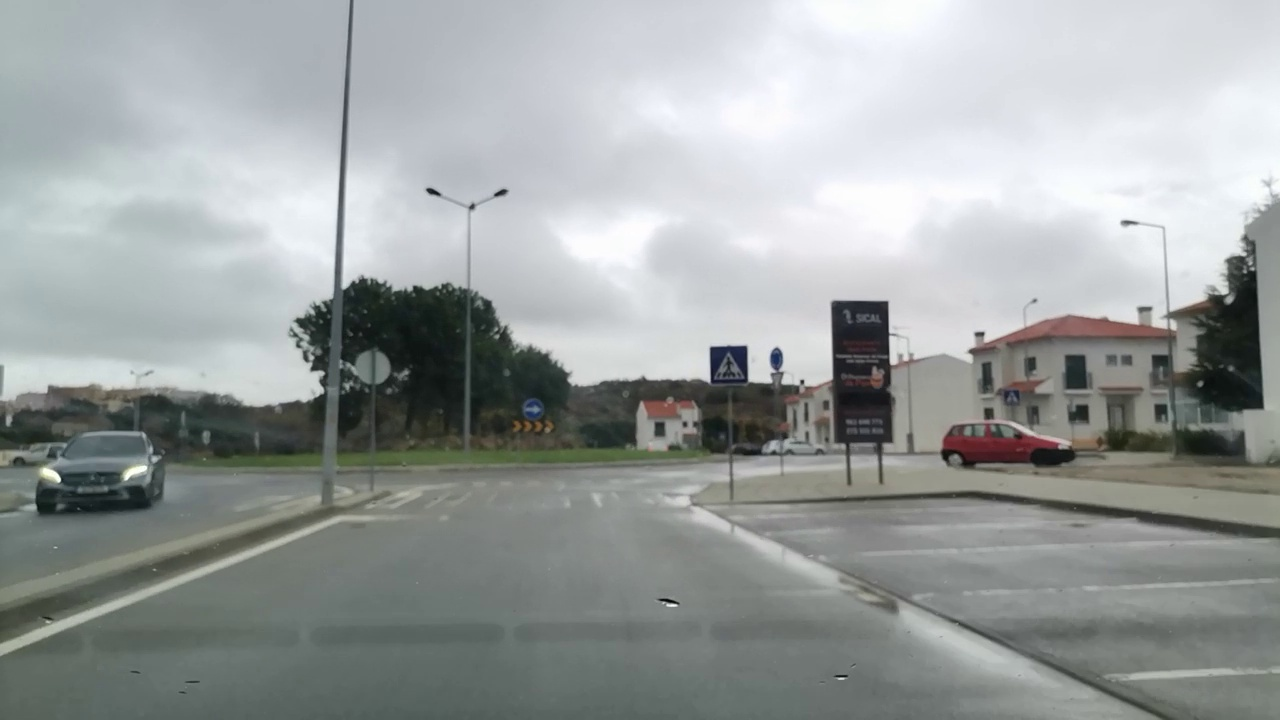Stairs: (360, 477, 696, 510)
